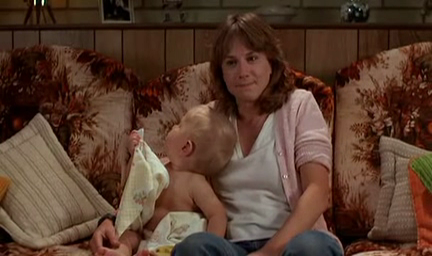face: (222, 47, 266, 99)
ms: (1, 1, 432, 256)
person: (89, 11, 343, 256)
